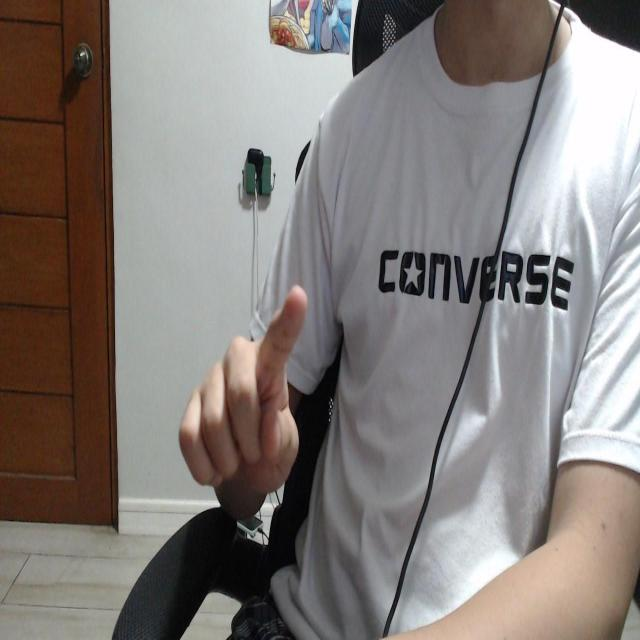Z: (178, 284, 307, 494)
